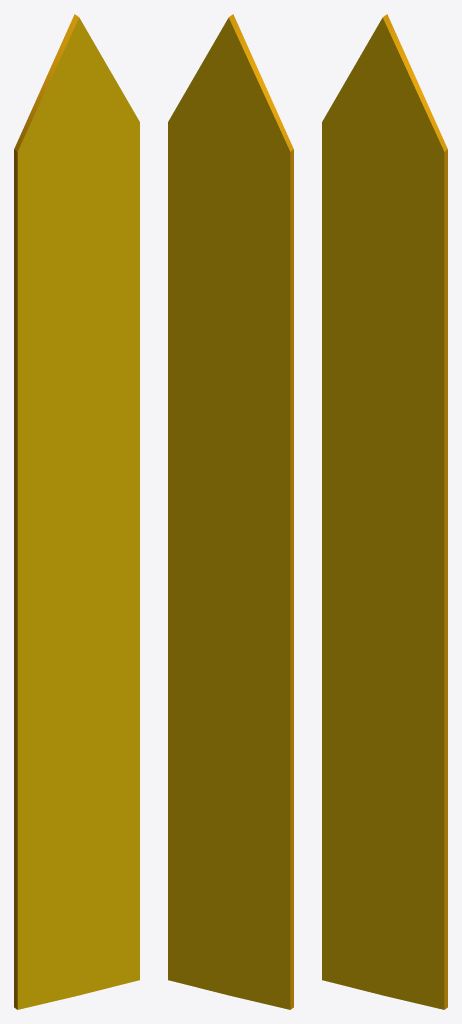
The model's file is OBJ_FENCE_thin_v02.fbx.
The picture shows the model from 3 angles, left to right: view 1: azimuth 30°, elevation 25°; view 2: azimuth 150°, elevation 25°; view 3: azimuth 330°, elevation 25°; orthographic projection.
Parts seen in each view (by area): view 1: pCube1; view 2: pCube1; view 3: pCube1.
Boxes of the visible parts, x1,y1,x2,y2 form: pCube1: (14,14,139,1009); pCube1: (168,14,293,1009); pCube1: (322,14,447,1009).
Size of the model in its own units: 0.14 by 1.07 by 0.00918.
